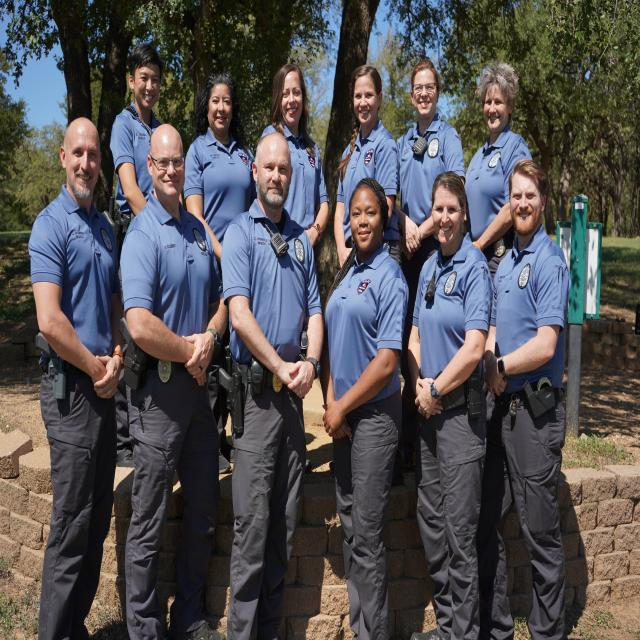police: (218, 139, 324, 640), (120, 123, 224, 632), (33, 115, 124, 640), (489, 152, 586, 640), (330, 184, 416, 639), (426, 172, 502, 640), (255, 54, 343, 253), (462, 46, 535, 254), (392, 54, 466, 259), (330, 57, 399, 266), (189, 62, 251, 273), (108, 51, 166, 235)
